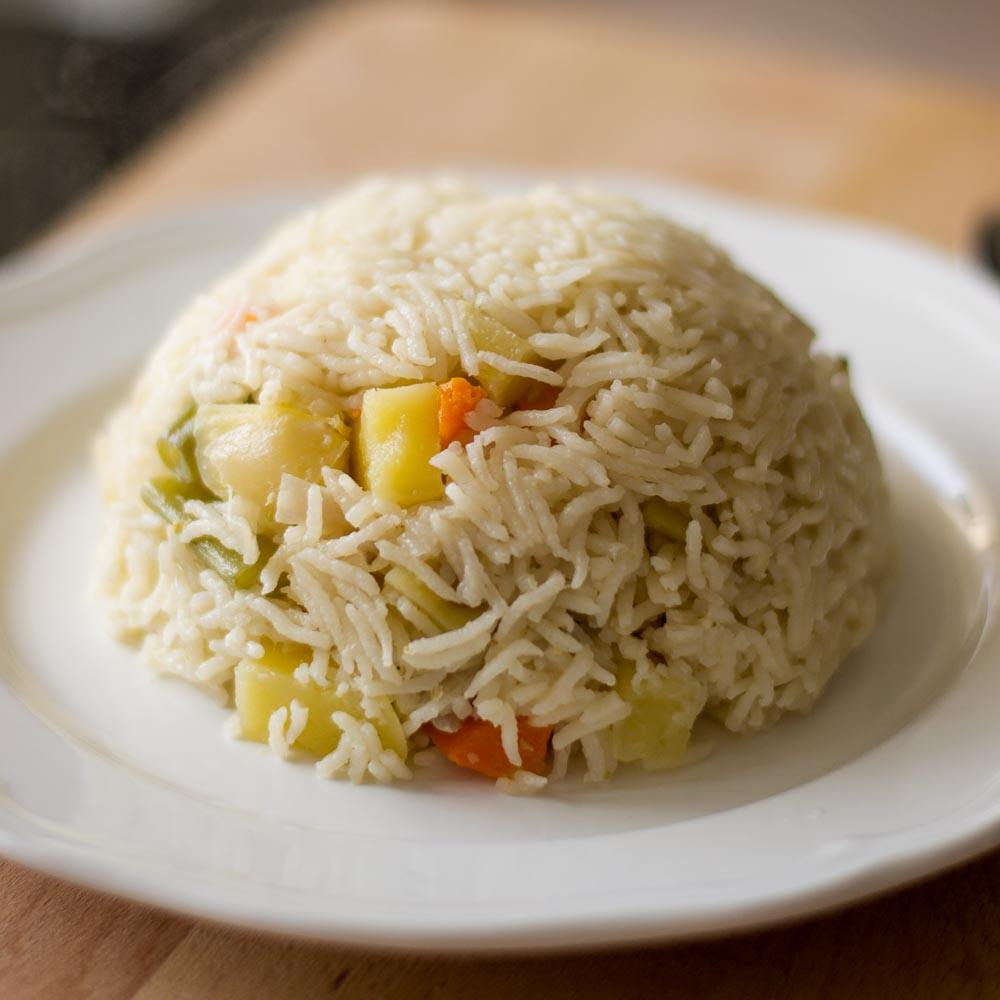veg-pulao: (136, 153, 909, 785)
